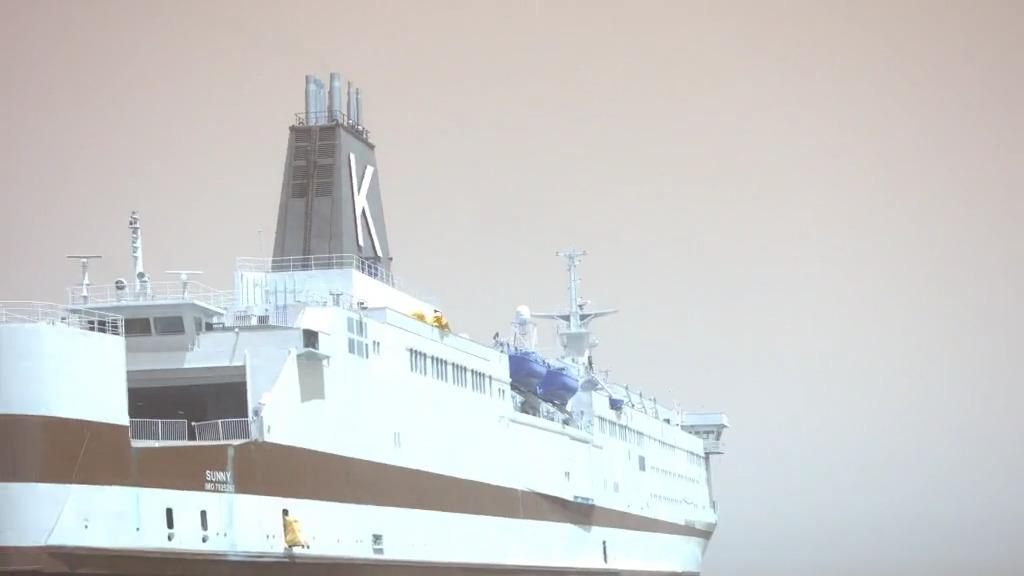PassengerShip: (0, 68, 748, 575)
